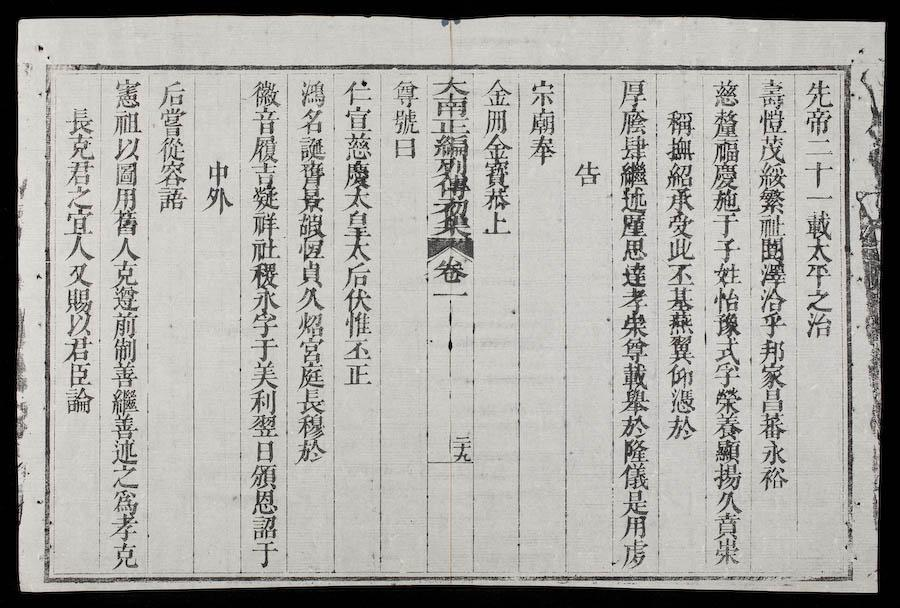c: (431, 255, 470, 286), (110, 76, 144, 109), (248, 78, 283, 108), (802, 78, 835, 109), (803, 209, 834, 241), (755, 78, 787, 109), (63, 103, 96, 133), (341, 77, 375, 106), (710, 109, 741, 140), (710, 78, 742, 108), (481, 78, 513, 108), (296, 77, 328, 107), (617, 78, 649, 108), (108, 541, 141, 570), (156, 79, 189, 108), (201, 185, 234, 214), (107, 513, 141, 541), (61, 387, 95, 415), (432, 175, 471, 199), (665, 335, 696, 365), (619, 539, 650, 569), (342, 132, 374, 161), (389, 78, 421, 107), (156, 107, 188, 136), (248, 540, 280, 569), (711, 462, 744, 490), (802, 160, 835, 188), (430, 95, 470, 118), (430, 135, 470, 158), (664, 414, 698, 441), (154, 186, 188, 213), (61, 209, 96, 235), (527, 79, 557, 109), (572, 159, 603, 188), (341, 161, 373, 189), (756, 135, 788, 163), (664, 109, 696, 137), (389, 108, 421, 136), (249, 107, 281, 135), (802, 109, 834, 137), (248, 360, 280, 388), (248, 262, 281, 289), (711, 413, 744, 440), (63, 133, 97, 159), (109, 109, 143, 135), (431, 75, 471, 97), (527, 137, 557, 166), (481, 211, 512, 239), (756, 412, 788, 439), (108, 388, 140, 415), (617, 109, 649, 136), (248, 135, 280, 162), (342, 211, 374, 238), (803, 312, 835, 339), (711, 538, 743, 565), (61, 336, 93, 363), (155, 135, 188, 161), (62, 235, 95, 261), (63, 159, 96, 185), (155, 160, 188, 186), (619, 462, 652, 488), (293, 438, 326, 464), (296, 107, 326, 135), (110, 311, 140, 339), (527, 109, 557, 137), (249, 184, 280, 211), (665, 212, 696, 239), (712, 387, 743, 414), (249, 310, 280, 337), (481, 135, 512, 162), (295, 337, 326, 364), (248, 463, 280, 489), (756, 109, 788, 135), (756, 163, 788, 189), (62, 287, 94, 313), (619, 312, 651, 338), (342, 105, 374, 131), (619, 489, 651, 515), (108, 439, 140, 465), (341, 263, 373, 289), (248, 237, 281, 262), (108, 464, 141, 489), (431, 217, 472, 237), (296, 162, 326, 189), (712, 337, 742, 364), (711, 287, 742, 313), (618, 162, 649, 188), (756, 189, 787, 215), (664, 163, 695, 189), (296, 135, 327, 161), (342, 312, 373, 338), (481, 163, 512, 189), (618, 187, 649, 213), (249, 211, 280, 237), (295, 388, 326, 414), (664, 286, 696, 311), (247, 413, 279, 438), (618, 136, 650, 161), (110, 136, 142, 161), (63, 261, 95, 286), (248, 515, 280, 540), (109, 286, 141, 311), (757, 465, 789, 490), (109, 236, 141, 261), (619, 338, 651, 363), (619, 389, 651, 414), (429, 118, 473, 136), (618, 414, 651, 438), (203, 157, 232, 184), (757, 287, 787, 313), (295, 312, 325, 338), (667, 388, 697, 414), (757, 338, 787, 364), (710, 164, 740, 190), (110, 210, 140, 236), (712, 512, 742, 538), (758, 439, 788, 465), (711, 237, 741, 263), (249, 489, 279, 515), (431, 198, 472, 217), (295, 188, 326, 213), (710, 139, 741, 164), (294, 287, 325, 312), (665, 137, 696, 162), (295, 213, 326, 238), (342, 237, 373, 262), (710, 212, 741, 237), (109, 362, 140, 387), (619, 363, 650, 388), (757, 262, 788, 287), (712, 262, 743, 287), (109, 261, 141, 285), (62, 362, 94, 386), (711, 362, 743, 386), (342, 362, 374, 386), (342, 338, 374, 362), (294, 414, 326, 438), (341, 188, 374, 211), (482, 109, 510, 136), (296, 261, 325, 287), (111, 160, 140, 186), (712, 312, 742, 337), (619, 287, 649, 312), (757, 363, 787, 388), (757, 312, 787, 337), (620, 438, 650, 463), (665, 238, 696, 262), (248, 389, 279, 413), (664, 189, 695, 213), (109, 415, 140, 439), (109, 489, 140, 513), (249, 336, 280, 360), (481, 188, 512, 212), (295, 364, 326, 388), (665, 311, 696, 335), (665, 364, 696, 388), (342, 288, 373, 312), (63, 186, 95, 209), (249, 289, 281, 312), (619, 214, 648, 239), (803, 262, 833, 286), (63, 312, 93, 336), (804, 288, 834, 312), (713, 439, 743, 463), (619, 263, 649, 287), (619, 238, 649, 262), (295, 238, 326, 261), (710, 190, 741, 213), (665, 262, 696, 285), (758, 237, 786, 262), (430, 158, 471, 175), (620, 515, 649, 539), (110, 186, 139, 210), (390, 137, 419, 161), (249, 162, 279, 185), (713, 490, 743, 513), (251, 438, 278, 463), (110, 338, 138, 362), (758, 388, 786, 412), (757, 215, 786, 238), (803, 240, 833, 262), (803, 137, 834, 158), (431, 286, 469, 303), (802, 191, 835, 207), (453, 432, 472, 444), (452, 452, 473, 462), (451, 444, 472, 452)
